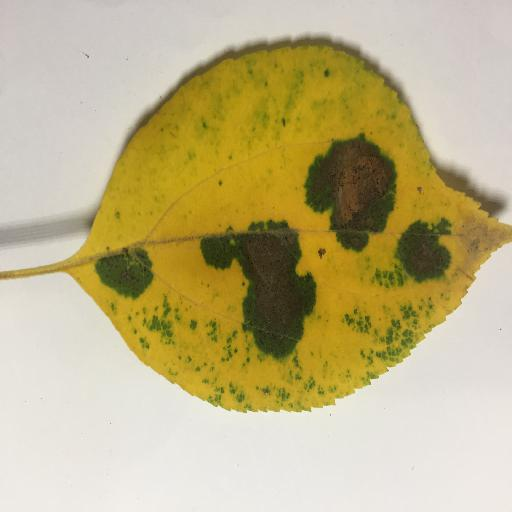Brown_Spot: (228, 238, 305, 353), (311, 135, 388, 229), (398, 231, 443, 283)
